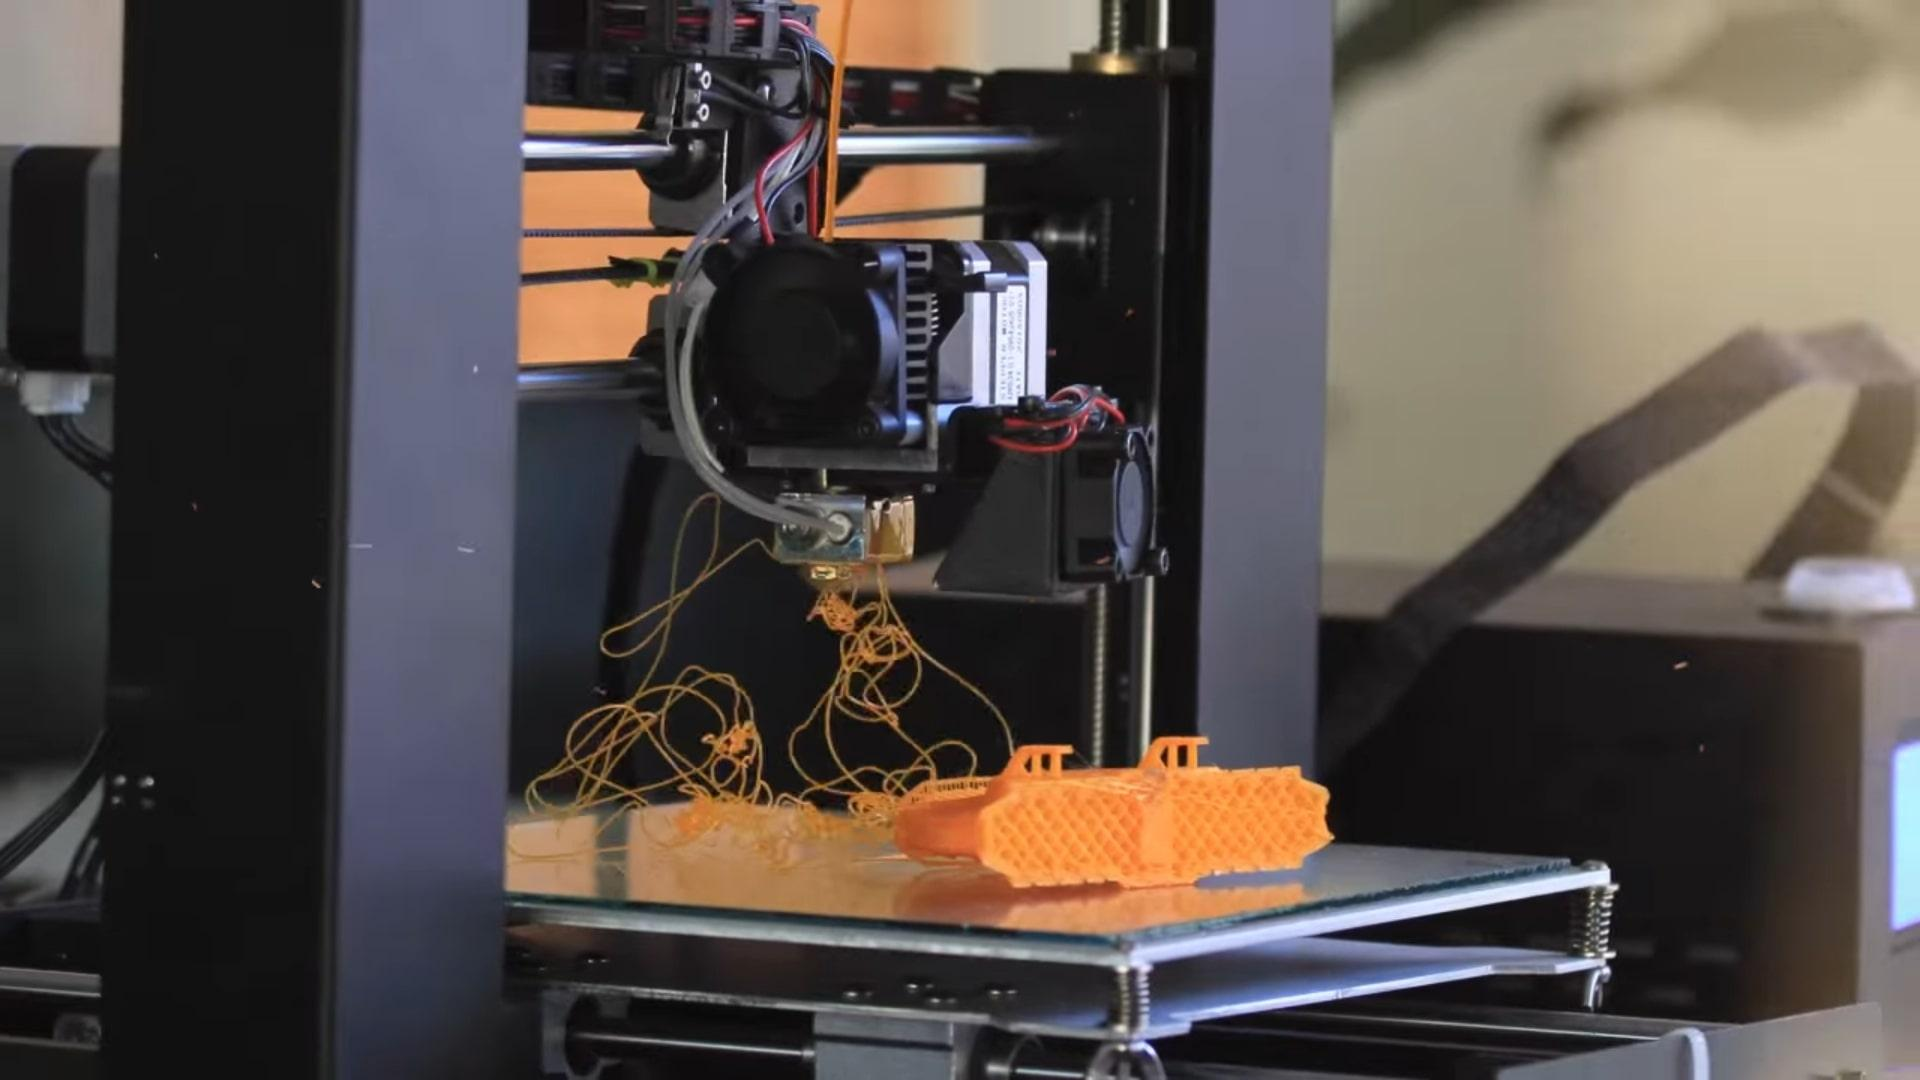Printing-Artifact: (572, 527, 975, 873)
